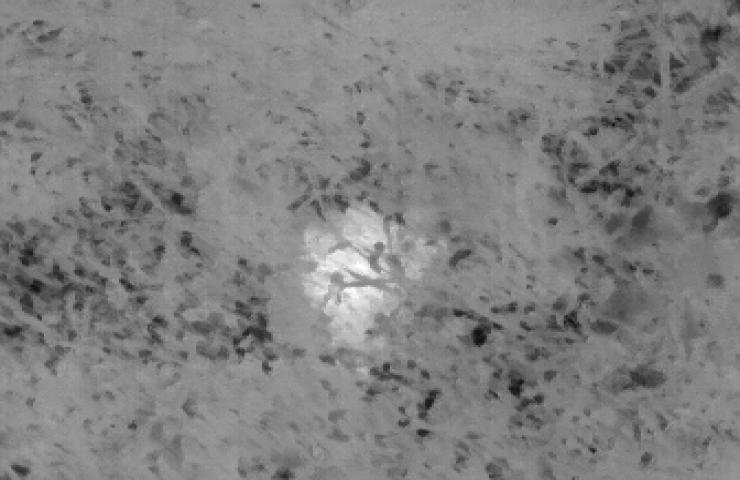landmines: (296, 200, 447, 350)
